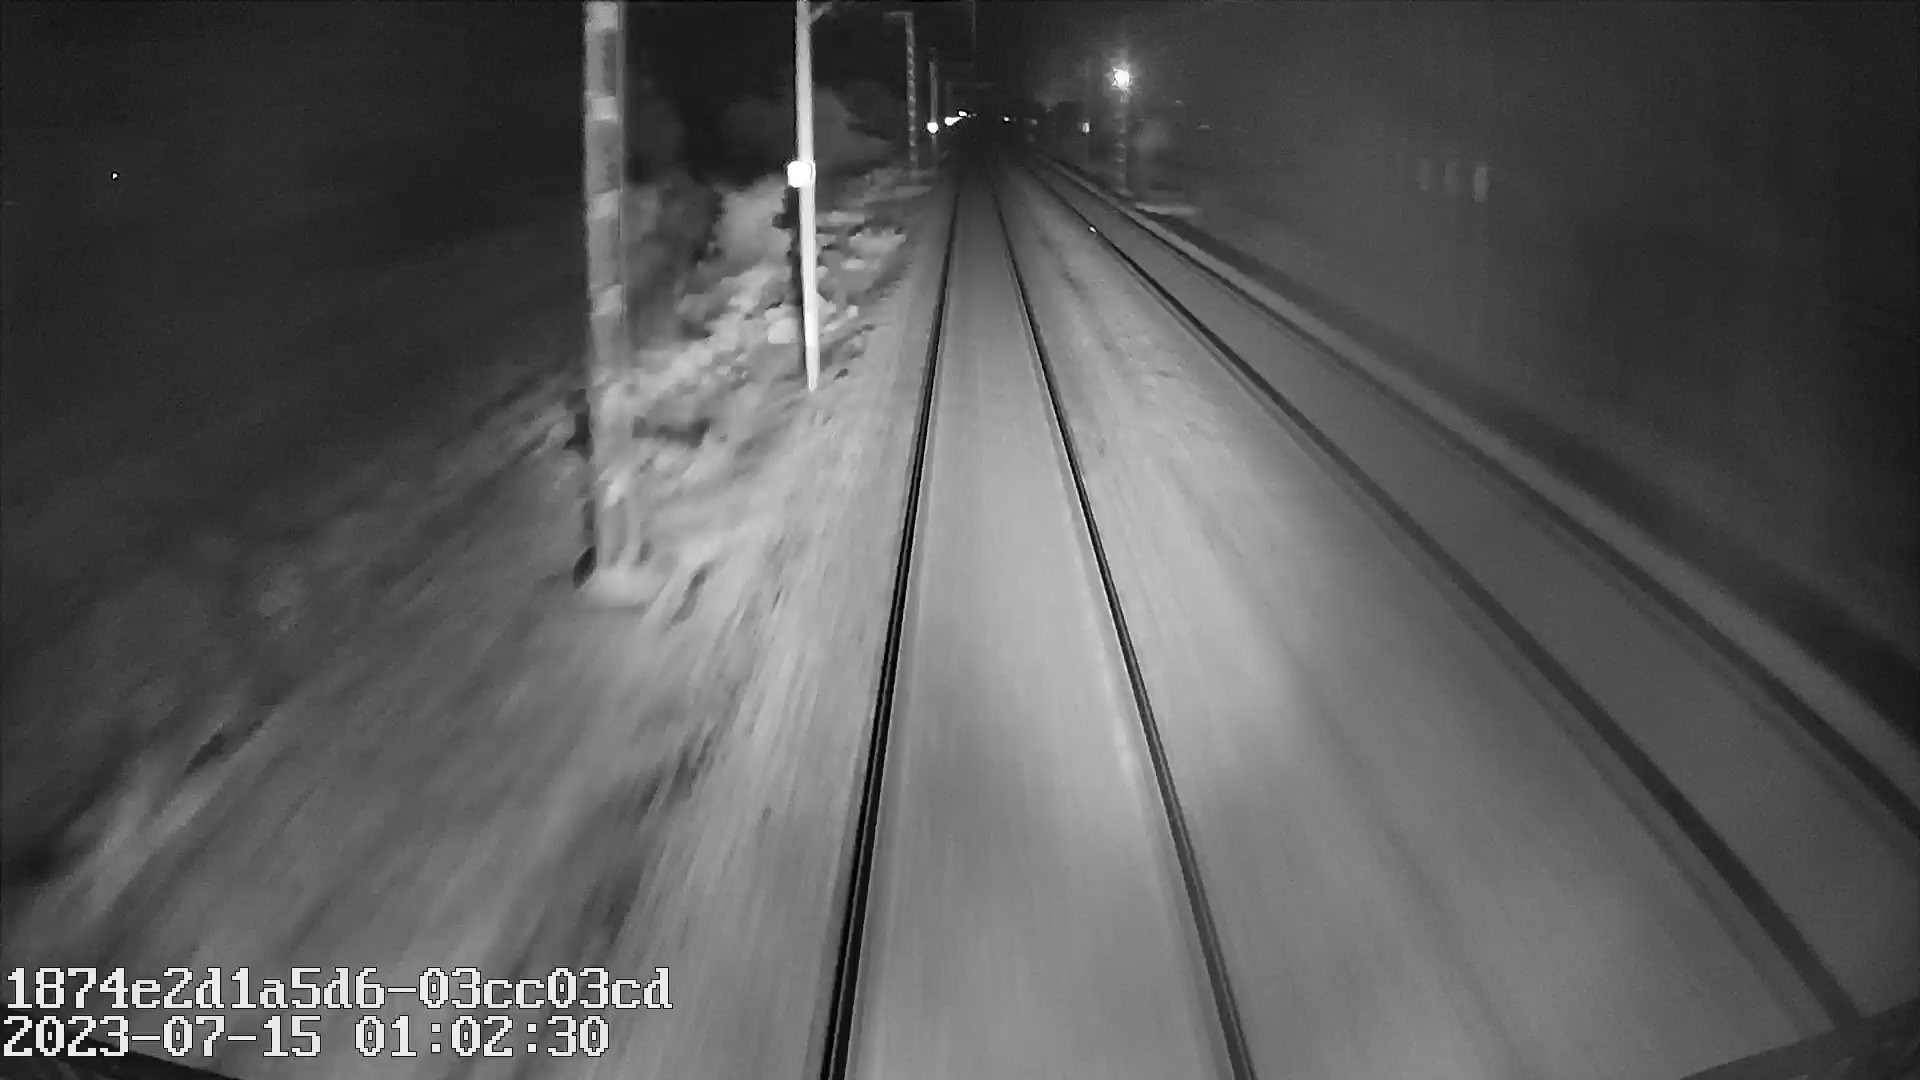track1: (838, 189, 1244, 1044)
track2: (1066, 201, 1906, 994)
